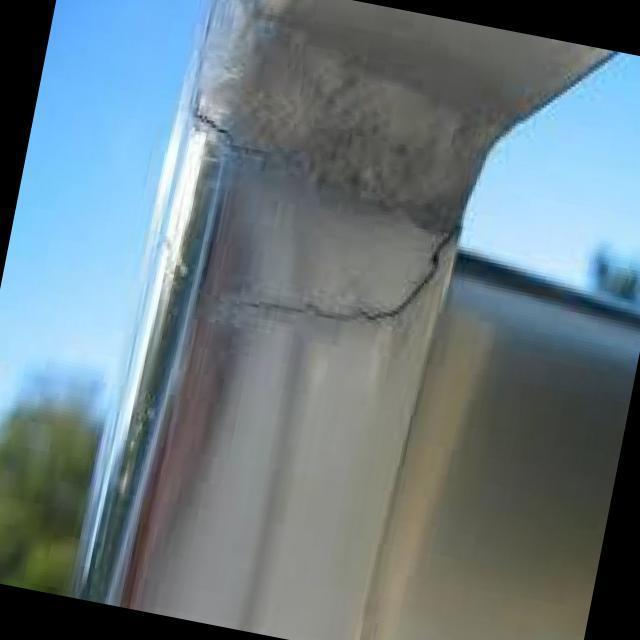defect: (217, 217, 467, 334), (190, 83, 288, 163)
